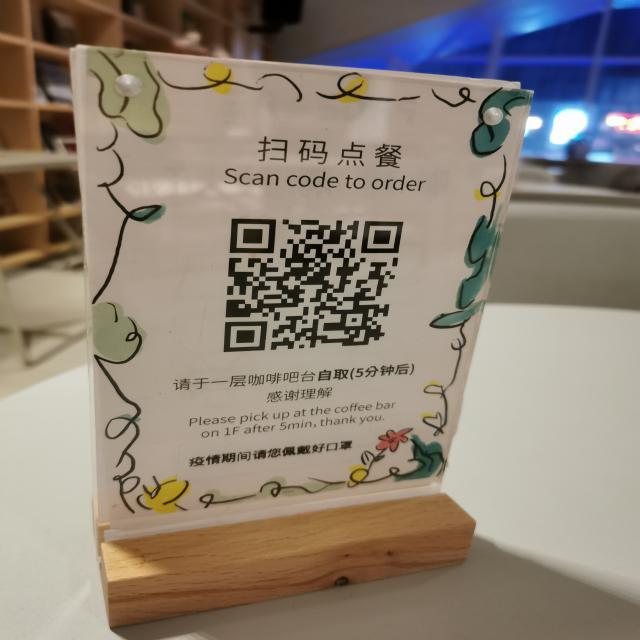qr_code: (223, 217, 403, 353)
